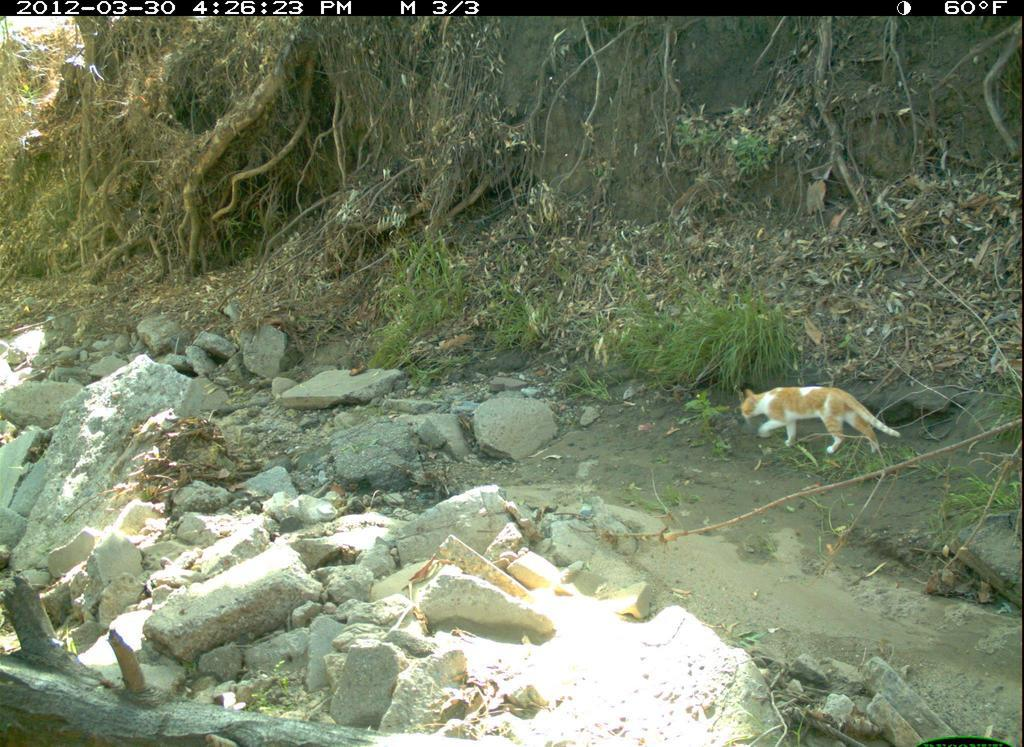cat: (735, 374, 911, 469)
